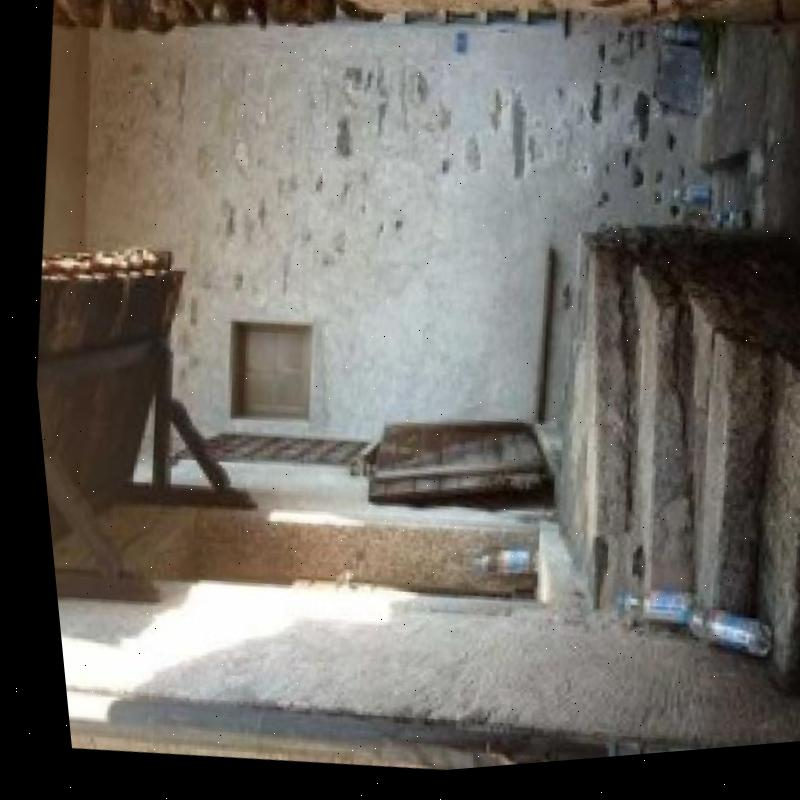botella: (661, 607, 768, 681), (658, 181, 764, 239), (596, 593, 687, 641), (454, 546, 526, 588)
